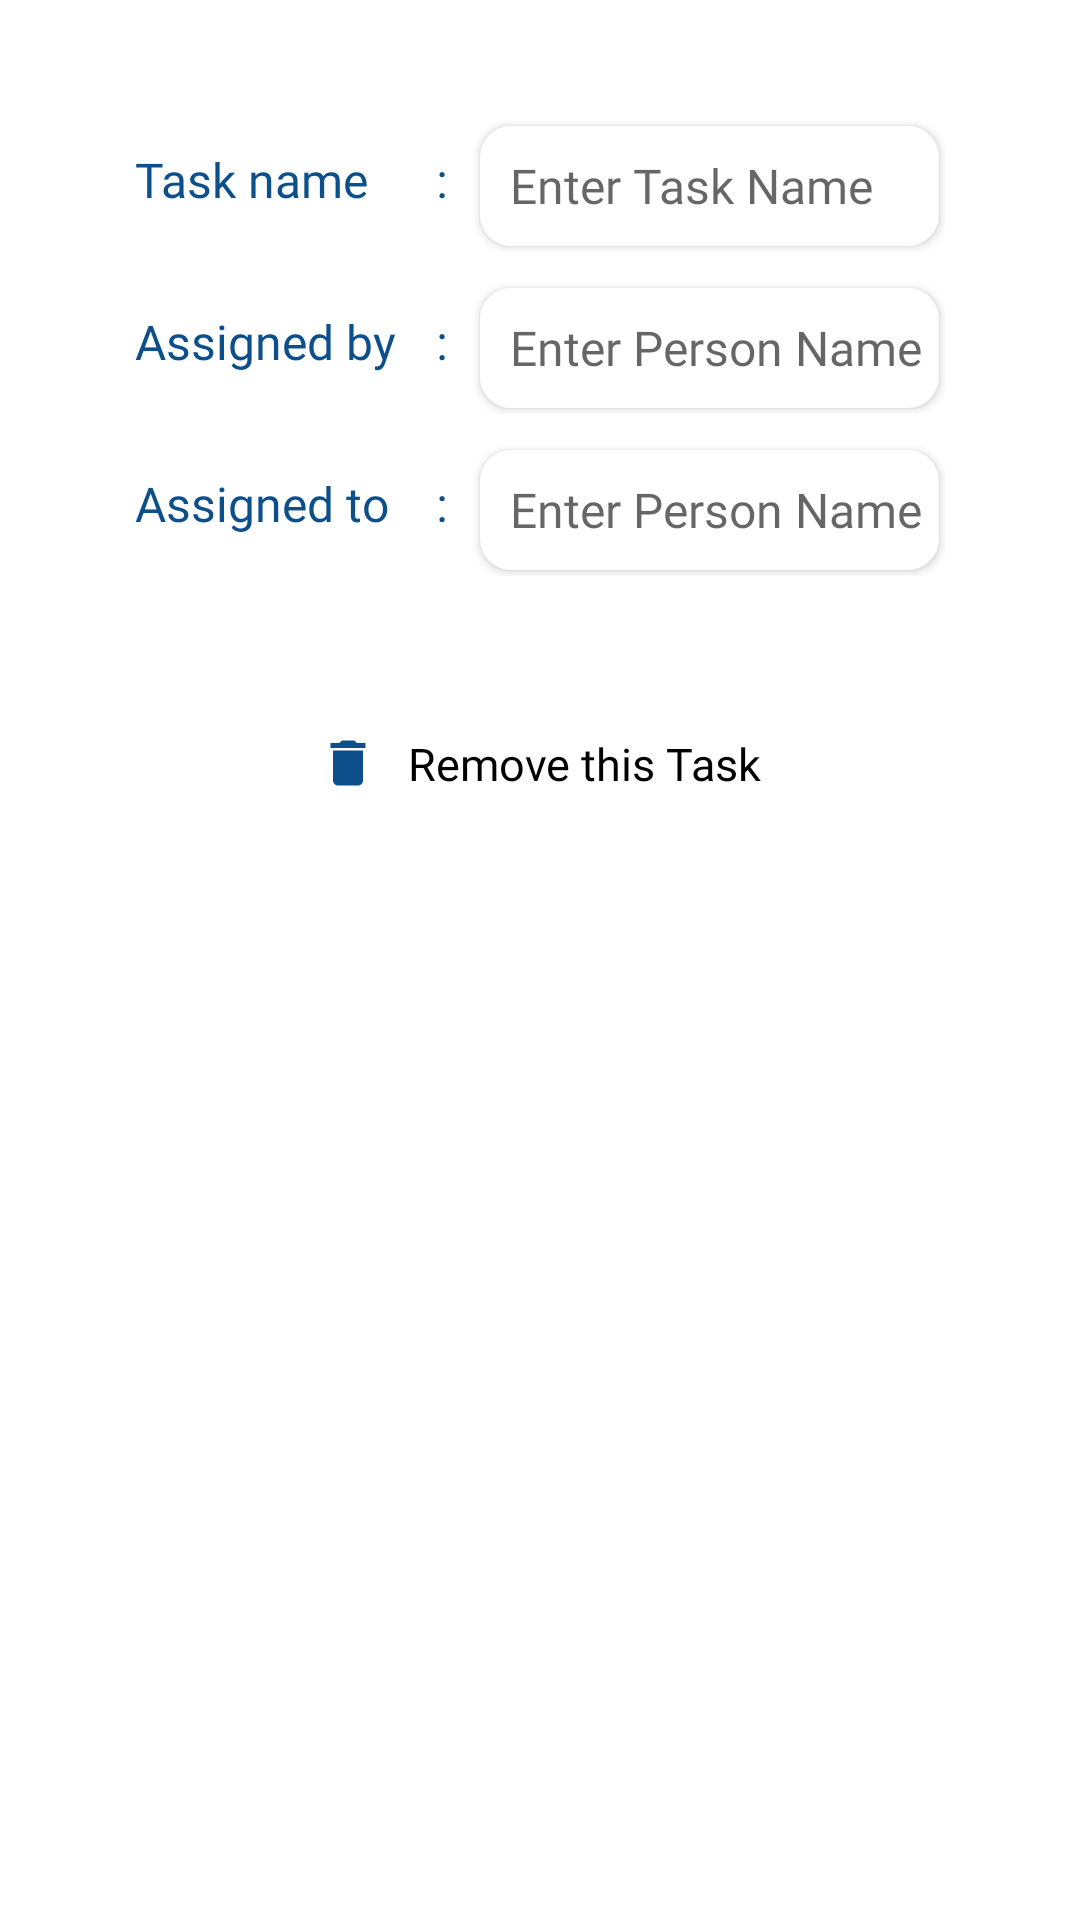

Icon click points for this 1080×1920 phone screenshot, format [x,y]:
delete: [348,763]
